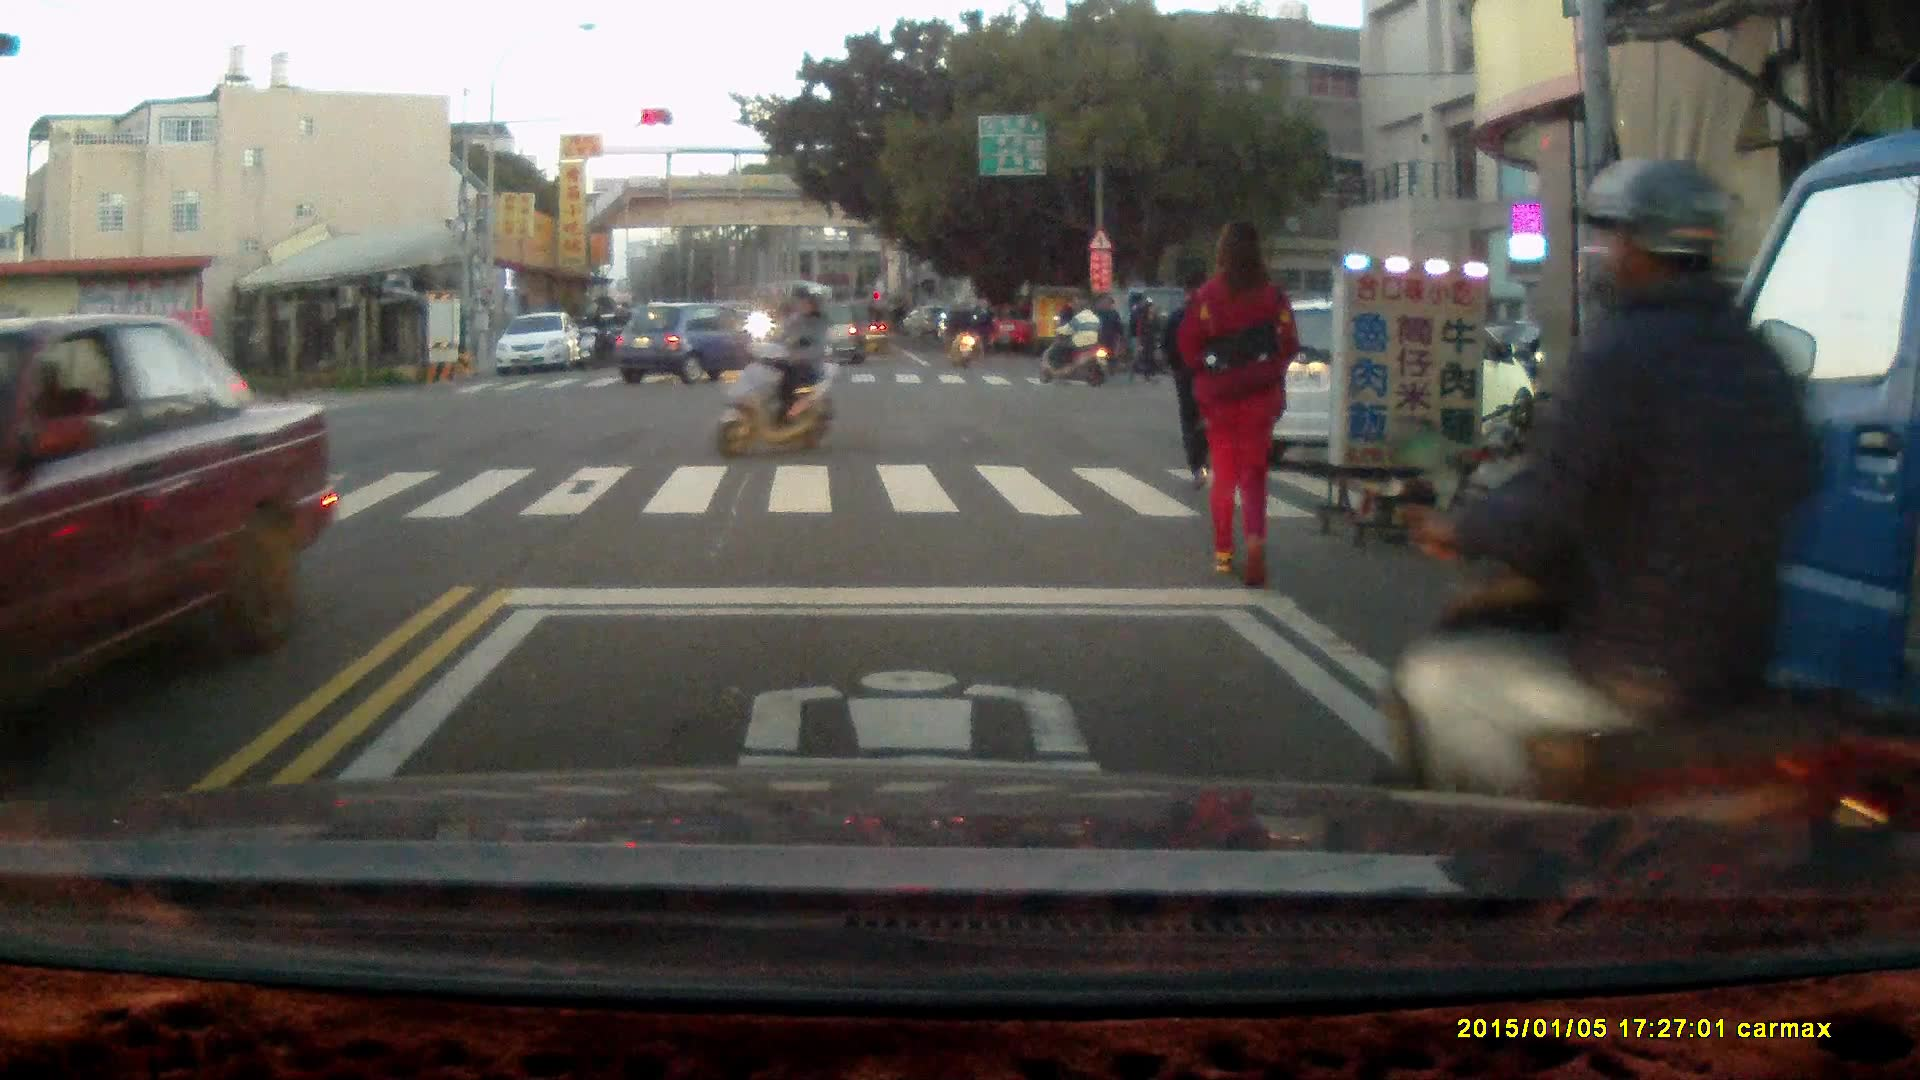pedestrian: (1176, 214, 1303, 588), (1155, 260, 1241, 486), (1086, 290, 1119, 384), (1132, 300, 1162, 382), (973, 293, 997, 368)
rider: (1380, 156, 1894, 890), (715, 282, 848, 461), (1036, 295, 1111, 387), (939, 293, 980, 371), (575, 302, 607, 370)
vehicle: (1598, 132, 1920, 878), (1, 313, 337, 731), (1233, 296, 1533, 459), (616, 303, 792, 389), (498, 313, 586, 377)
